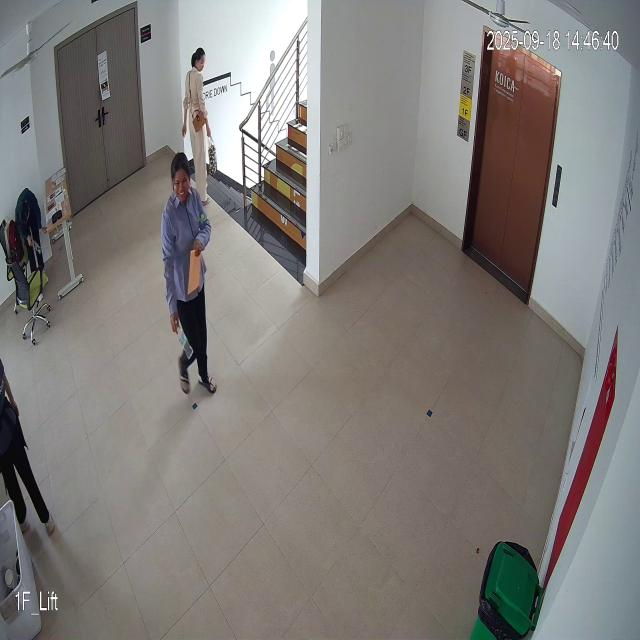face: (170, 149, 193, 203)
